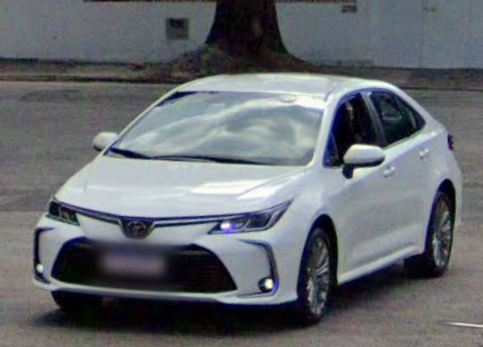car: (33, 71, 461, 324)
